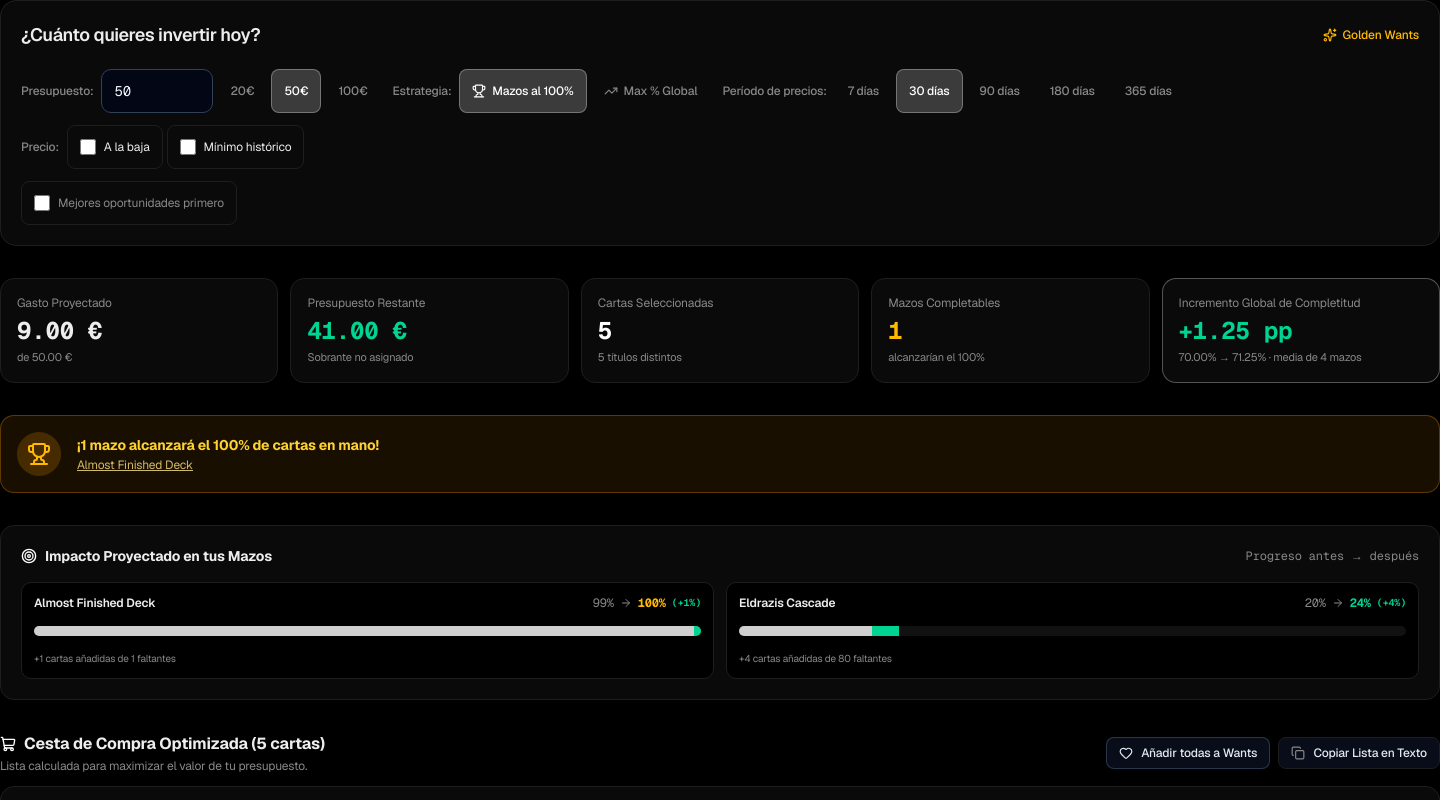
Test: GoldenWantsTab Component › includes unchanged decks in the global metric and preserves baseline with zero budget
Expected: the text "+1.25 pp" is shown, [1179,315,1292,346]
Expected: the text "70.00% → 71.25% · media de 4 mazos" is shown, [1179,350,1362,364]
Replace the text in the number field with "0" at (158, 91), box [102,69,214,113]
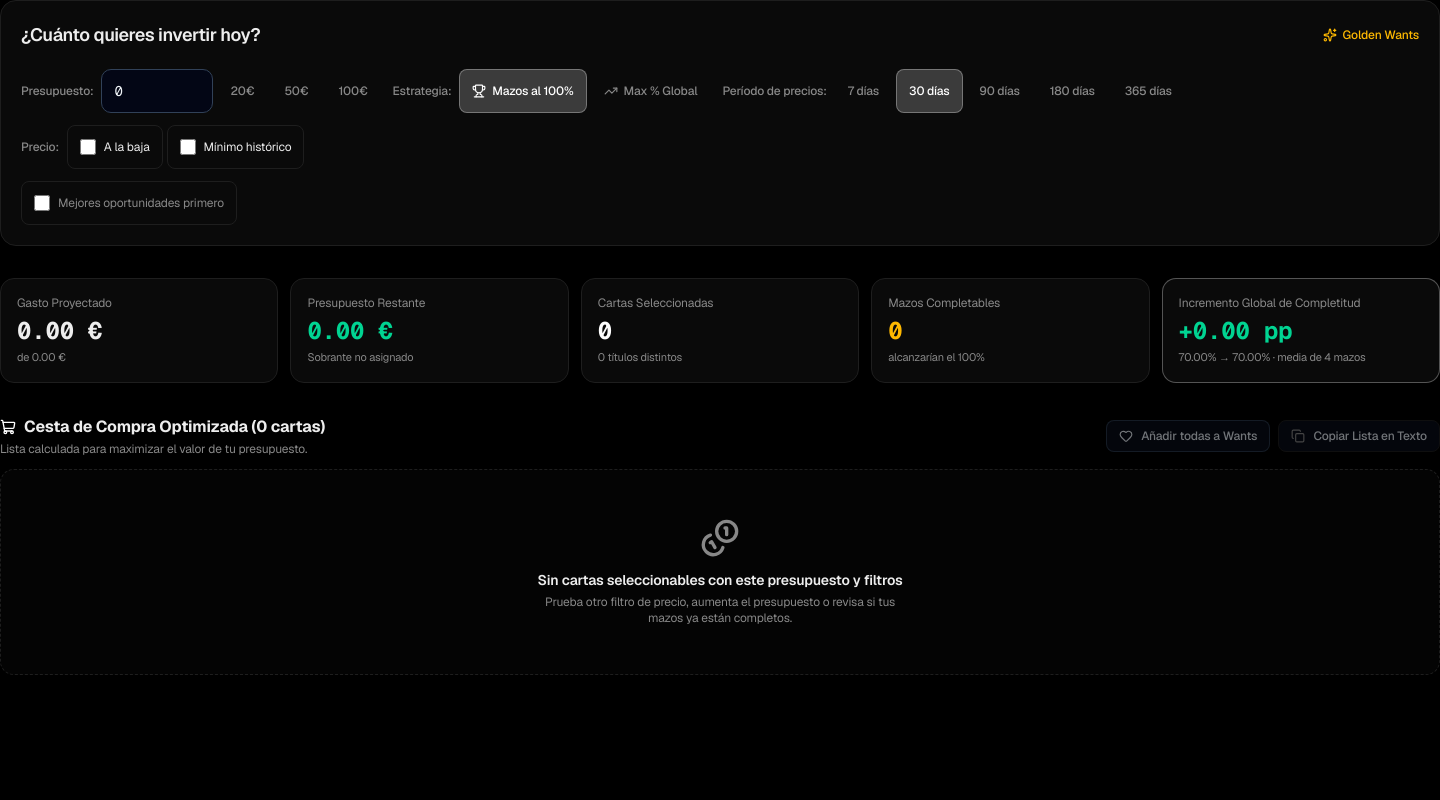
Expected: the text "+0.00 pp" is shown, [1179,315,1292,346]
